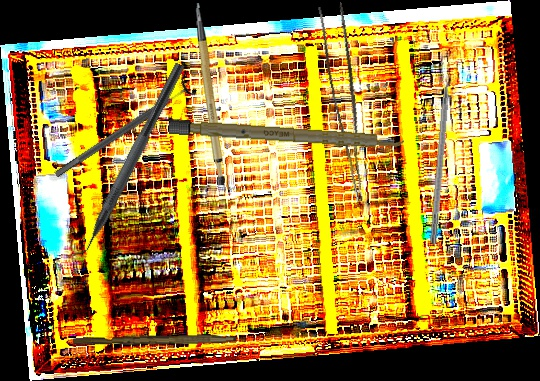Chopper: (63, 55, 186, 268)
Fixation Ring: (48, 72, 200, 186)
Hook Surgical: (428, 54, 455, 245)
Scalpel Handle: (168, 118, 405, 151), (191, 2, 231, 186), (72, 331, 237, 348)
Tissue Forceps: (312, 2, 386, 202)
